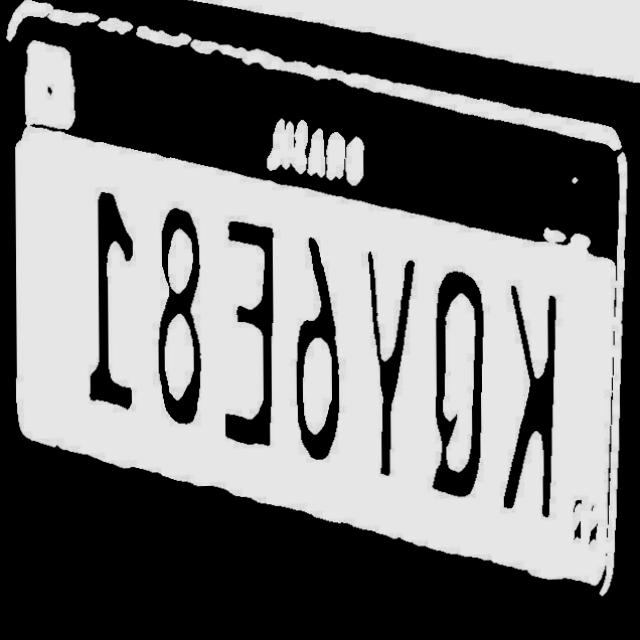1: (68, 152, 143, 438)
6: (279, 202, 347, 491)
8: (141, 185, 206, 460)
e: (209, 191, 277, 473)
k: (491, 254, 560, 518)
q: (418, 244, 491, 535)
y: (359, 217, 420, 509)
